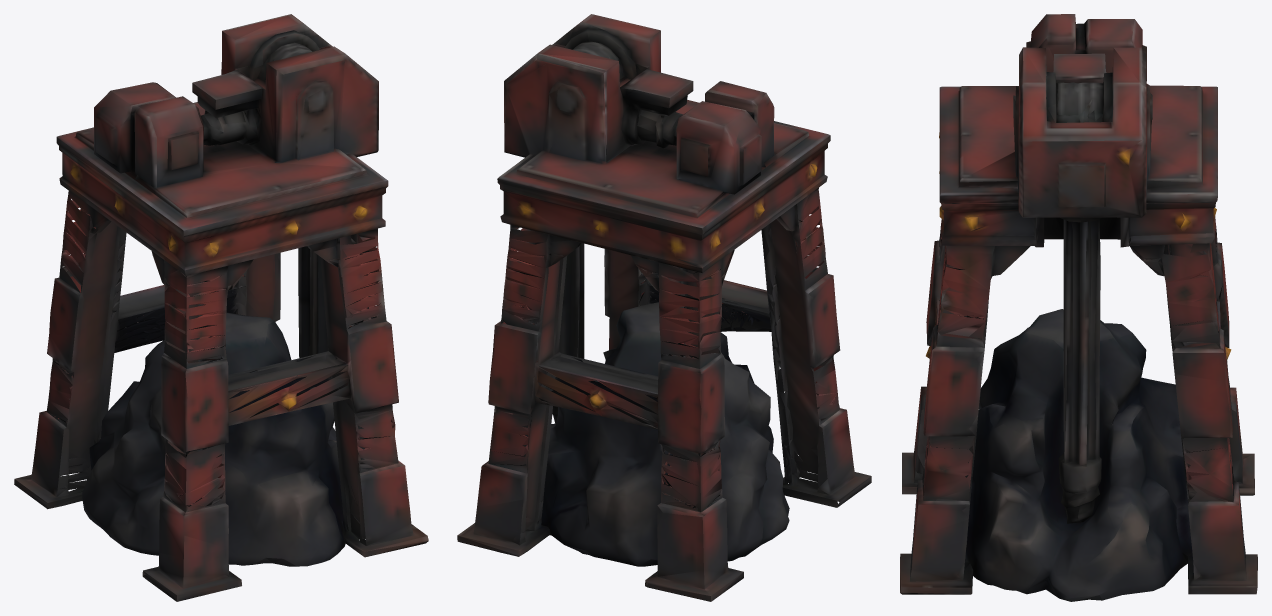
The picture shows the model from 3 angles, left to right: view 1: azimuth 30°, elevation 25°; view 2: azimuth 150°, elevation 25°; view 3: azimuth 270°, elevation 25°; orthographic projection. The views are drawn at different scales.
Parts seen in each view (by area): view 1: repaired; view 2: repaired; view 3: repaired.
Boxes of the visible parts, x1,y1,x2,y2 form: repaired: (14, 14, 428, 601); repaired: (457, 14, 871, 601); repaired: (900, 14, 1257, 601).
Bounding box in the file's own units: 0.6031 × 0.9999 × 0.6514.
1 material, 1 textured.
